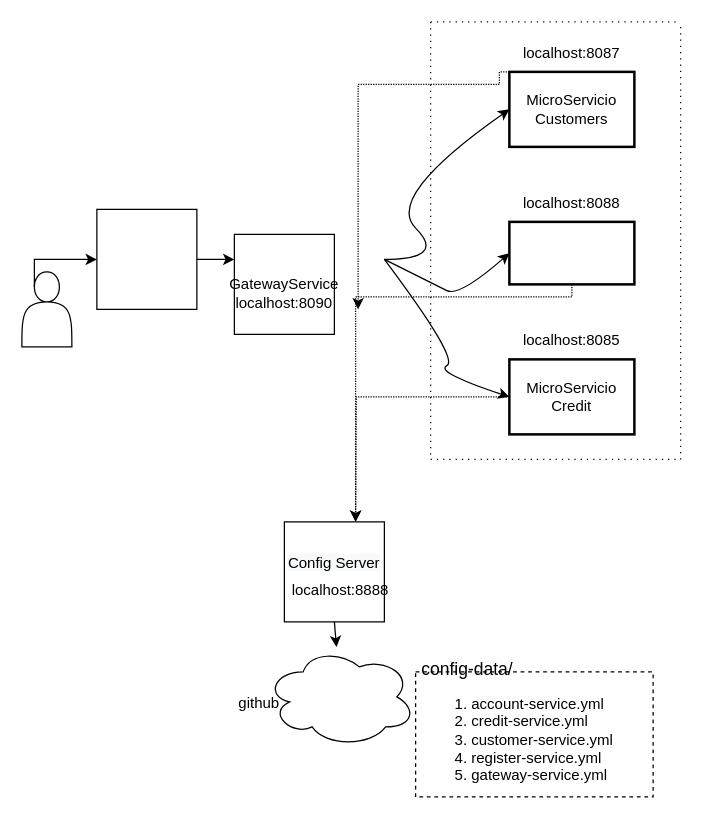
This 703x819 diagram has some shape labels left out. The shapes that lost their labels are listed below. From the top down, each one's centre as x and y in pixels, then its label:
the point at 146,258: app Banco
the point at 571,252: MicroServicio Accounts
